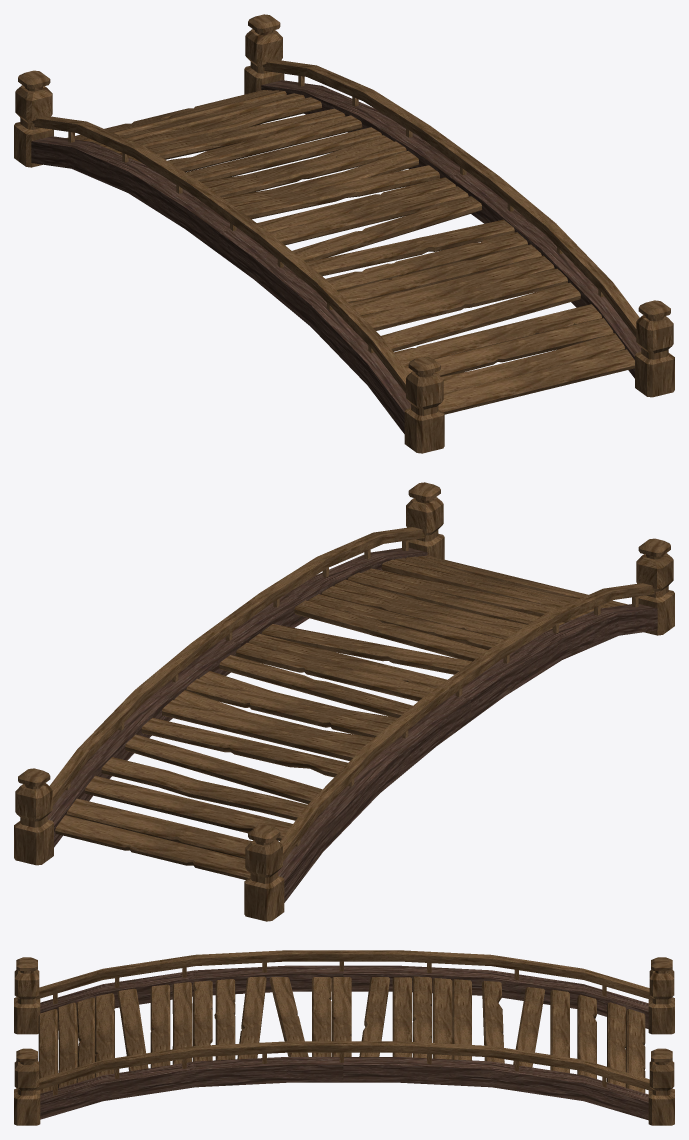
Rendered from bridge01.glb.
3 views of the same model, one above another, from view 1: azimuth 30°, elevation 25°; view 2: azimuth 150°, elevation 25°; view 3: azimuth 270°, elevation 25° (orthographic). The views are drawn at different scales.
Parts seen in each view (by area): view 1: Bridge01; view 2: Bridge01; view 3: Bridge01.
Boxes of the visible parts, <box> form: Bridge01: <box>14,14,674,453</box>; Bridge01: <box>14,482,674,921</box>; Bridge01: <box>14,950,674,1125</box>.
Size of the model in its own units: 11.02 by 3.84 by 30.07.
Materials: 2 (2 with a texture image).
